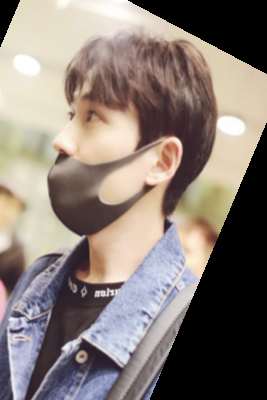mask_weared_incorrect: (33, 26, 218, 250)
